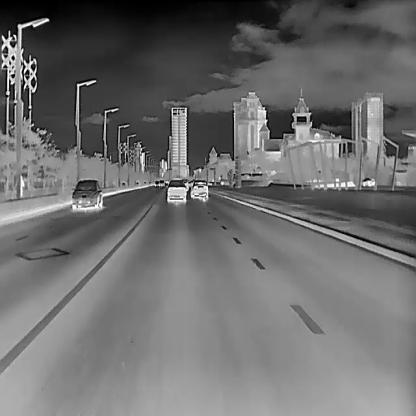car: (70, 178, 103, 210), (167, 178, 187, 202), (190, 180, 208, 199), (360, 176, 375, 187), (159, 180, 164, 186), (154, 180, 158, 186)
